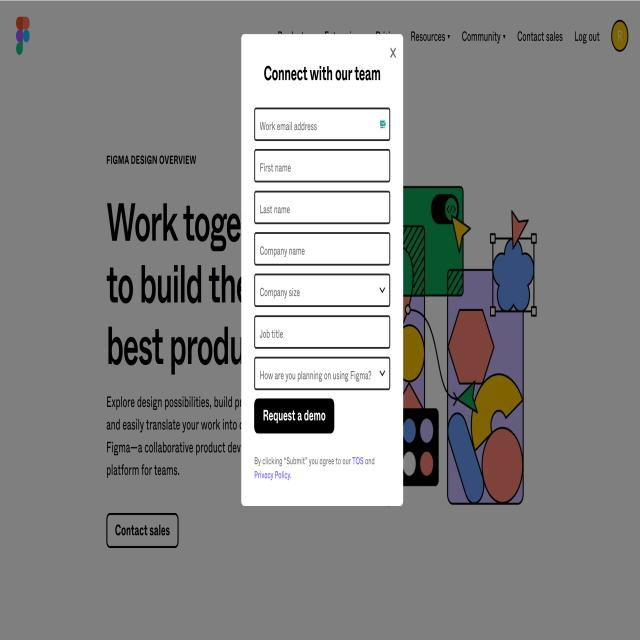button: (253, 398, 336, 434), (388, 45, 398, 61)
input field: (252, 353, 392, 393), (254, 312, 391, 352), (253, 188, 392, 227), (254, 146, 392, 184), (253, 106, 391, 143), (253, 230, 391, 267), (254, 272, 391, 308)
links: (254, 470, 293, 482), (351, 453, 364, 467)
text: (262, 62, 382, 86), (253, 451, 378, 468)
